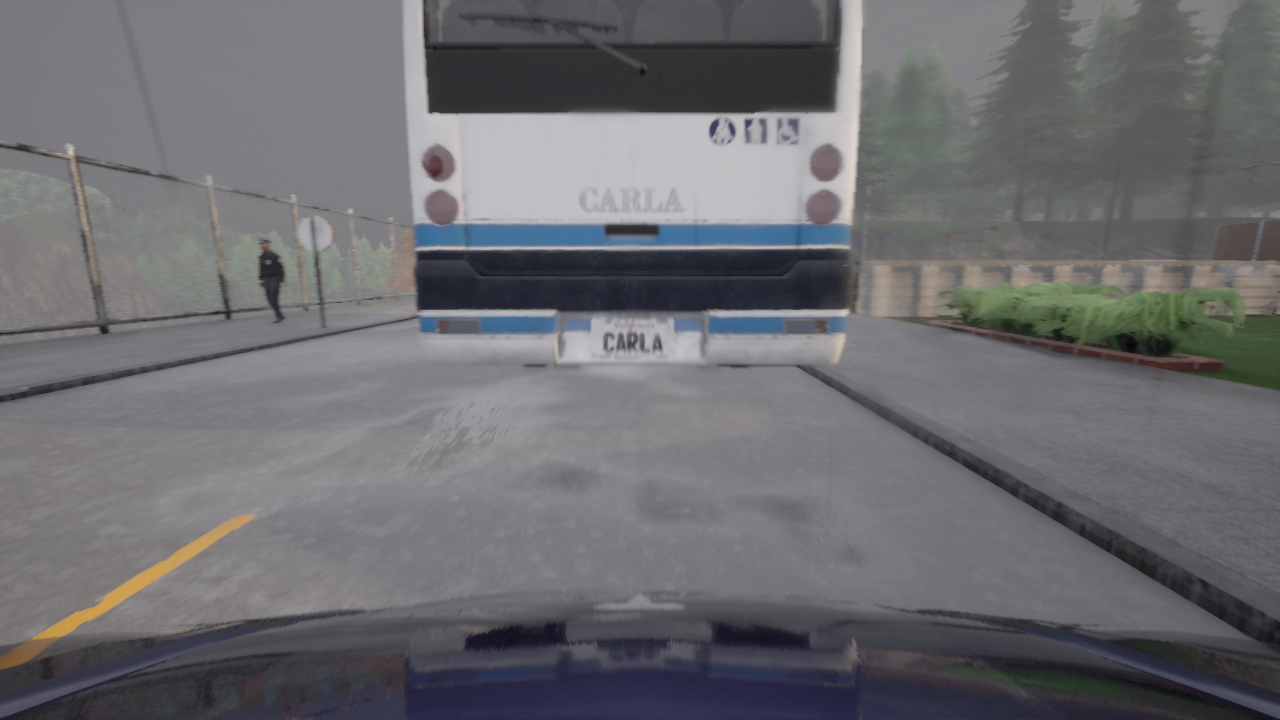cyclist: (403, 0, 861, 366), (0, 588, 1279, 719)
pedestrian: (258, 238, 287, 323)
